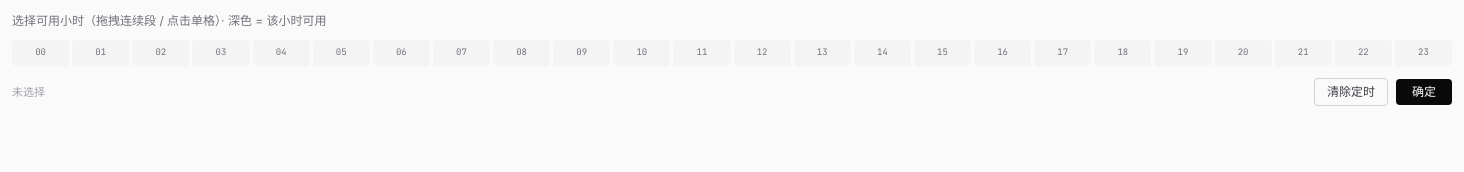
Scenario: HourGridPicker — 确定校验与回调 › 报错后任意格子操作 → 错误清除，footer 恢复已选时段
Step 1. Click the button with test id "hour-grid-confirm" → (1424, 92), box left=1396, top=79, right=1452, bottom=105
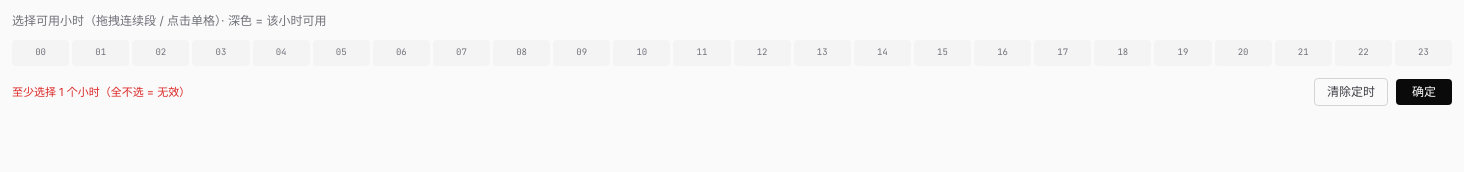
Expected: the text "至少选择 1 个小时（全不选 = 无效）" is shown, left=12, top=84, right=190, bottom=100
Step 2. Press the mouse on the cell "05" → (341, 53), box left=313, top=40, right=370, bottom=66
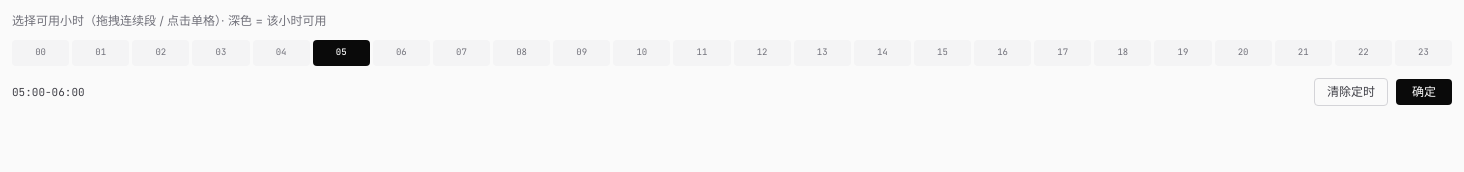
Expected: the text with test id "hour-grid-selected" reads "05:00-06:00", left=12, top=85, right=85, bottom=99
